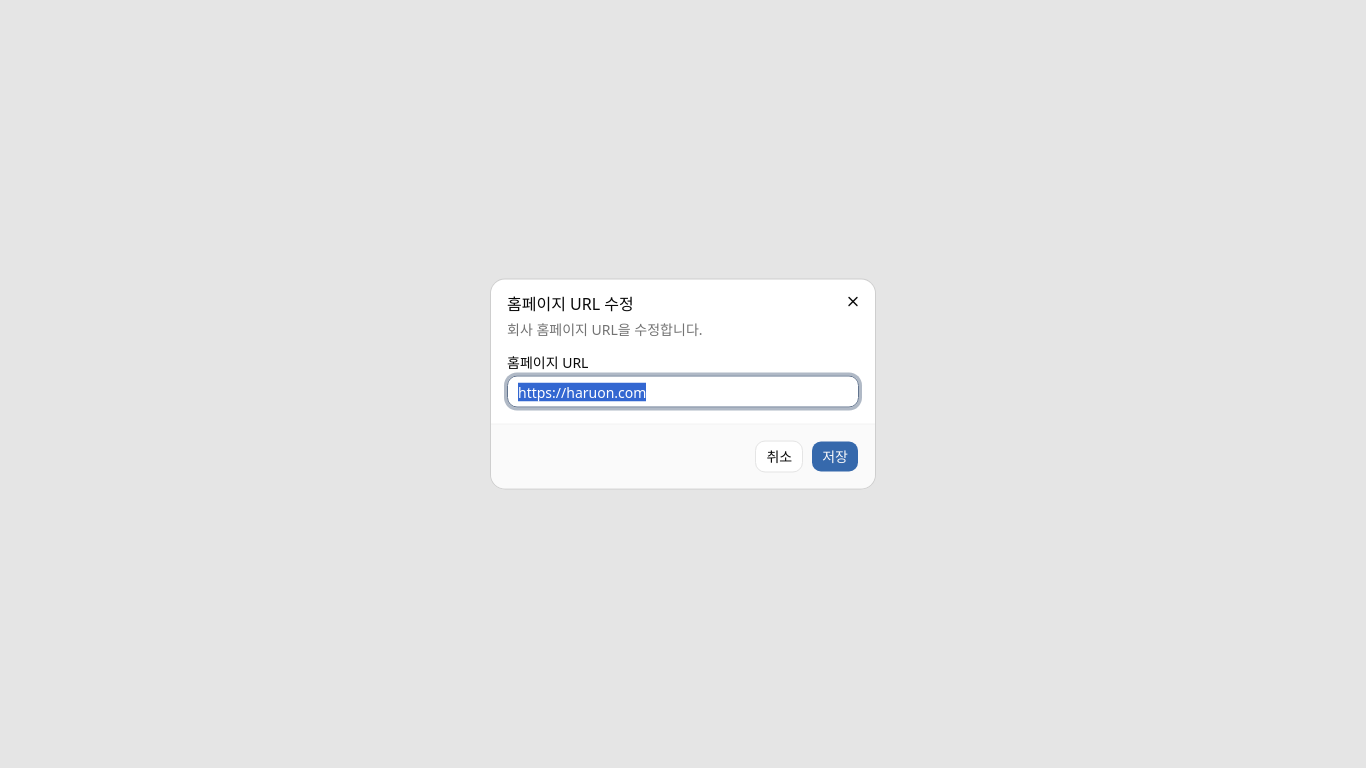
CompanyHomePageEditDialog › http(s)://로 시작하지 않으면 zod 검증 에러를 노출한다
Replace the text in the field labelled "홈페이지 URL" with "haruon.com": {"x": 683, "y": 392} [507,376,859,408]
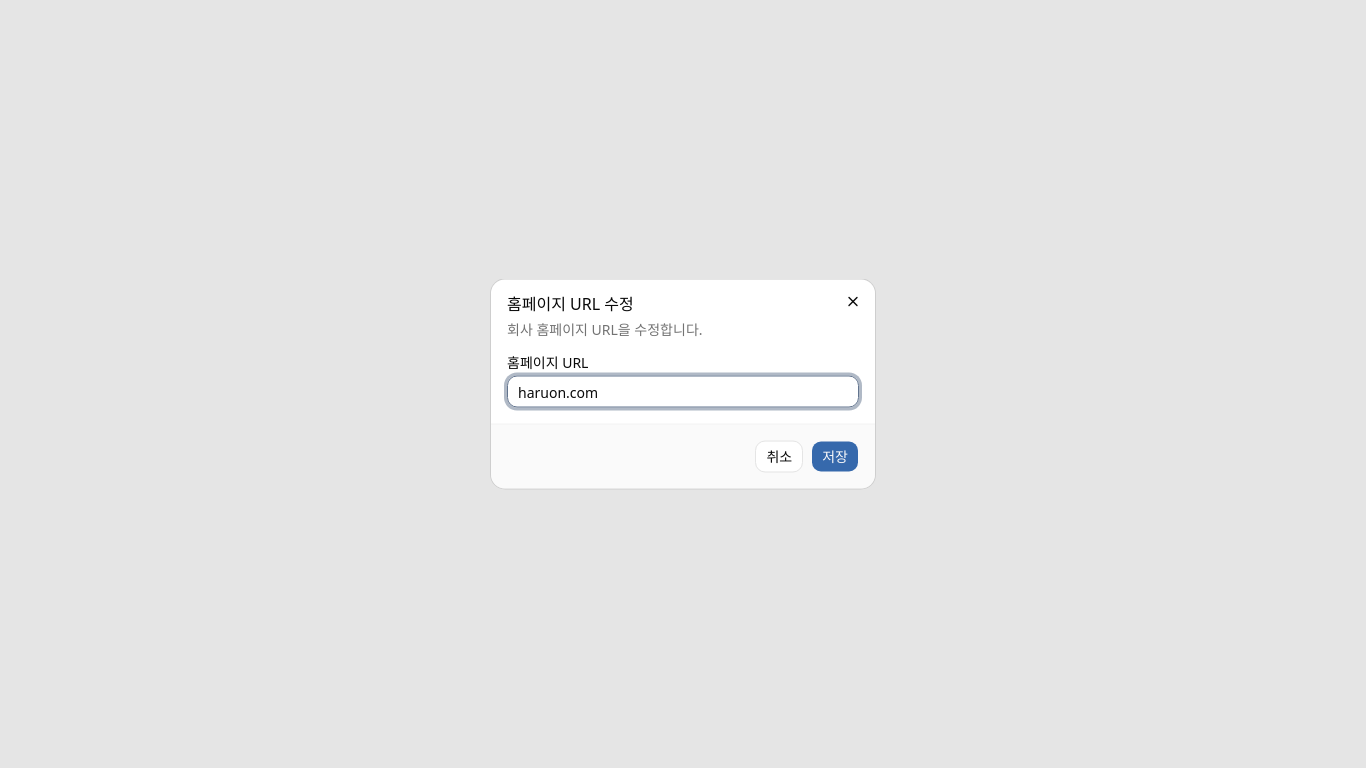
Click the button "저장": {"x": 835, "y": 456} [811,440,859,472]
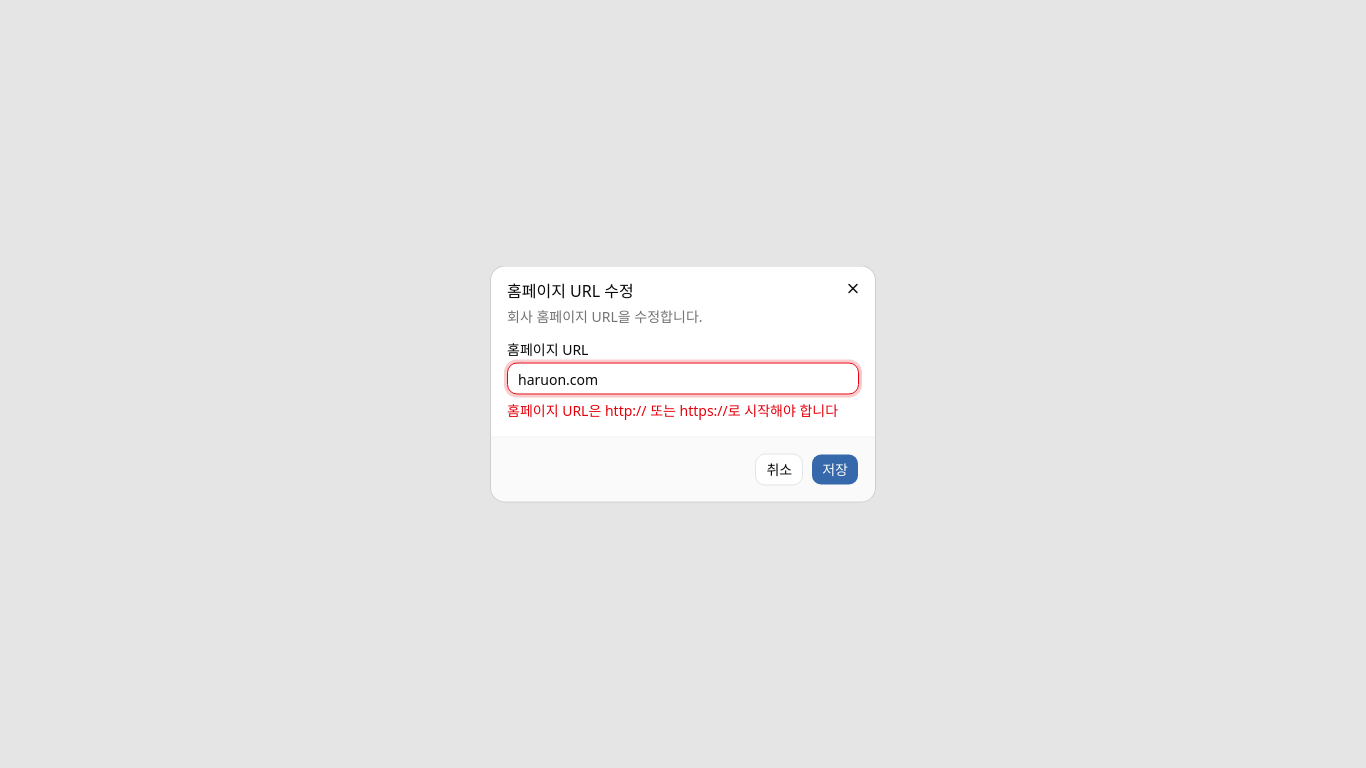
Result: the text "홈페이지 URL은 http:// 또는 https://로 시작해야 합니다" is shown at [507,400,859,420]
